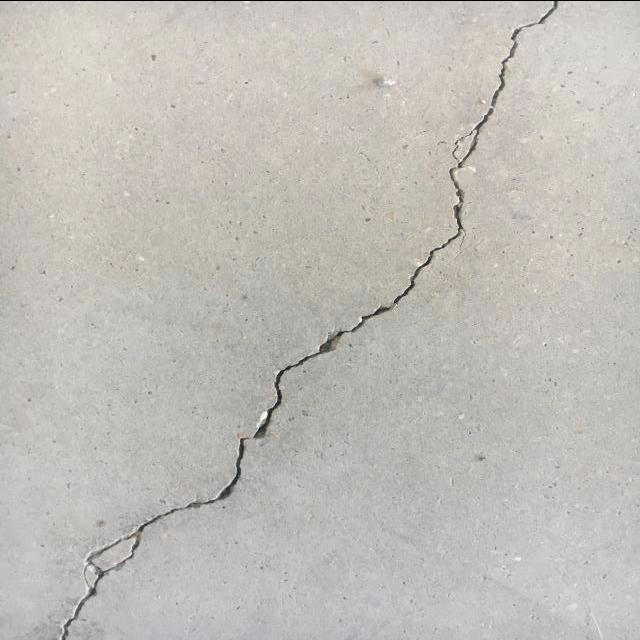SurfaceCrack: (1, 0, 632, 640)
